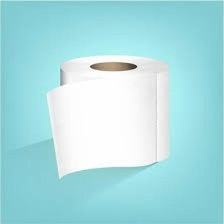tissue: (41, 48, 175, 184)
